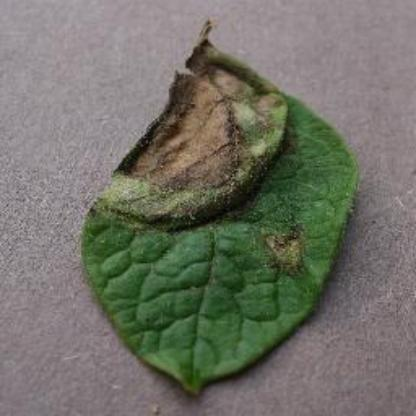Late-Blight: (75, 19, 362, 397)
